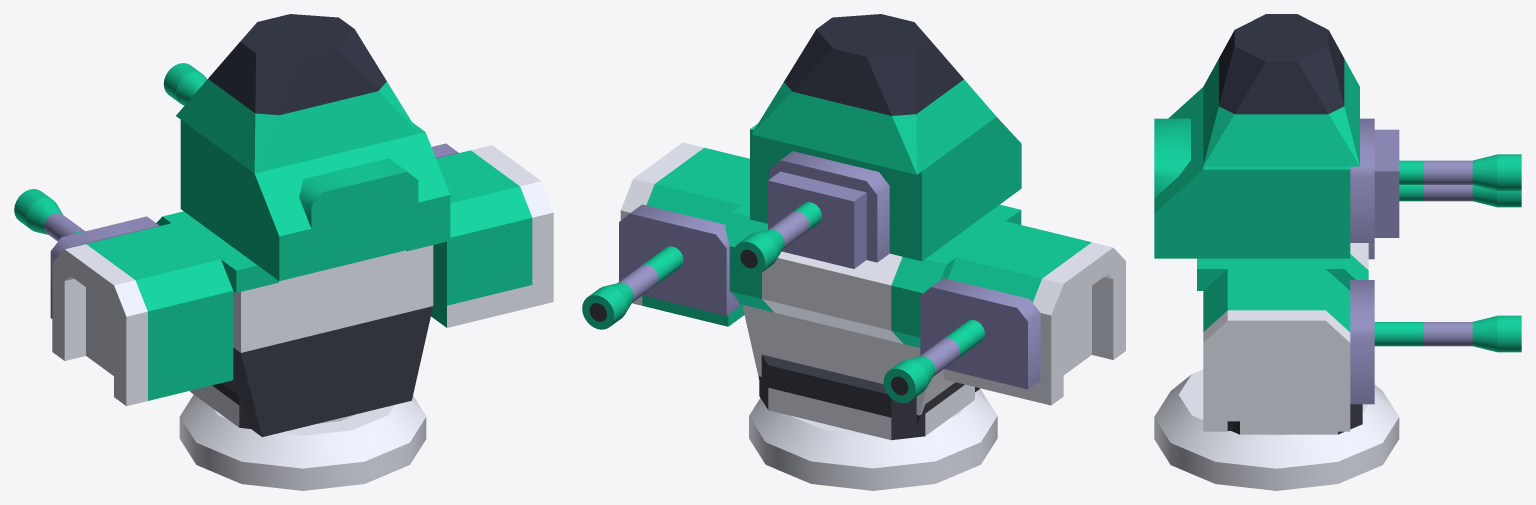
The model's file is AAGunHead.glb.
The picture shows the model from 3 angles, left to right: view 1: azimuth 30°, elevation 25°; view 2: azimuth 150°, elevation 25°; view 3: azimuth 270°, elevation 25°; orthographic projection.
Parts seen in each view (by area): view 1: shoulder_default (×2), chest_humanoid, tank_turretBlock, window_domeRound, ring_bevel, tank_turretBarrel (×2), pelvis_belt; view 2: tank_turretBarrel (×3), shoulder_default (×2), window_domeRound, chest_humanoid, tank_turretBlock, ring_bevel, pelvis_belt; view 3: tank_turretBlock, shoulder_default, window_domeRound, tank_turretBarrel (×3), ring_bevel, chest_humanoid, pelvis_belt.
Part boxes in pixels (x1,y1,x2,y2): shoulder_default (×2): (52, 145, 553, 406); chest_humanoid: (156, 211, 449, 436); tank_turretBlock: (180, 120, 450, 280); window_domeRound: (176, 14, 418, 173); ring_bevel: (179, 395, 426, 490); tank_turretBarrel (×2): (14, 63, 206, 318); pelvis_belt: (190, 383, 355, 428); tank_turretBarrel (×3): (582, 151, 1040, 403); shoulder_default (×2): (620, 142, 1125, 405); window_domeRound: (751, 14, 996, 174); chest_humanoid: (725, 198, 1021, 427); tank_turretBlock: (750, 117, 1021, 268); ring_bevel: (749, 389, 997, 490); pelvis_belt: (759, 354, 974, 440); tank_turretBlock: (1154, 87, 1399, 258); shoulder_default: (1203, 269, 1350, 431); window_domeRound: (1203, 14, 1359, 166); tank_turretBarrel (×3): (1350, 118, 1521, 404); ring_bevel: (1154, 369, 1399, 490); chest_humanoid: (1197, 243, 1368, 430); pelvis_belt: (1231, 404, 1362, 434).
Size of the model in its own units: 2 by 1.8 by 1.5.
